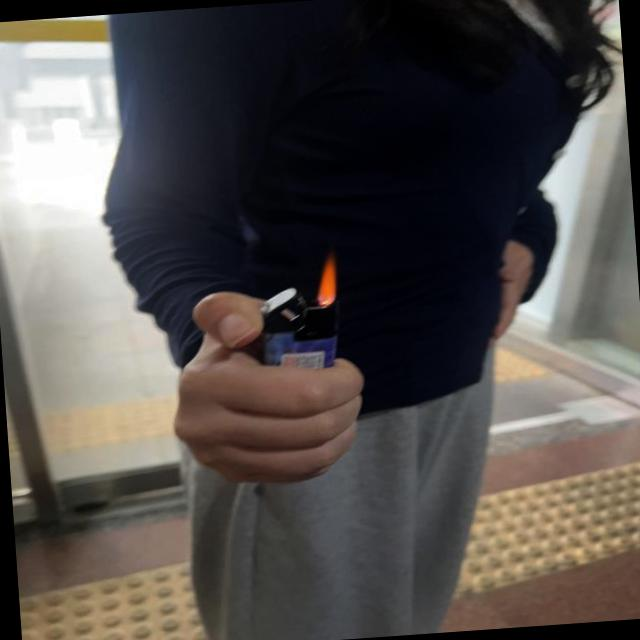fire: (312, 258, 339, 309)
